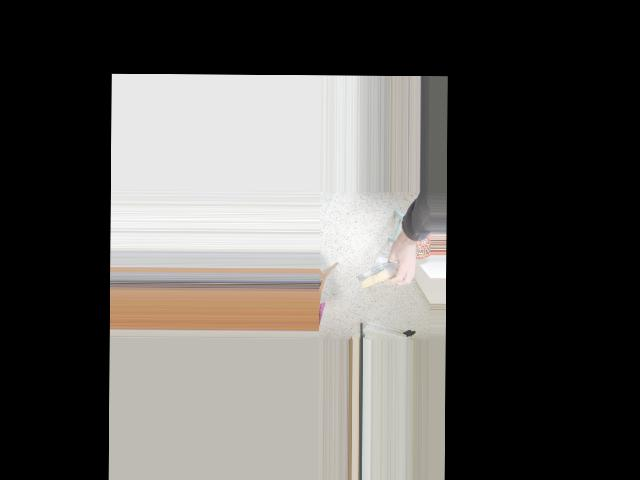cheese: (353, 256, 407, 292)
